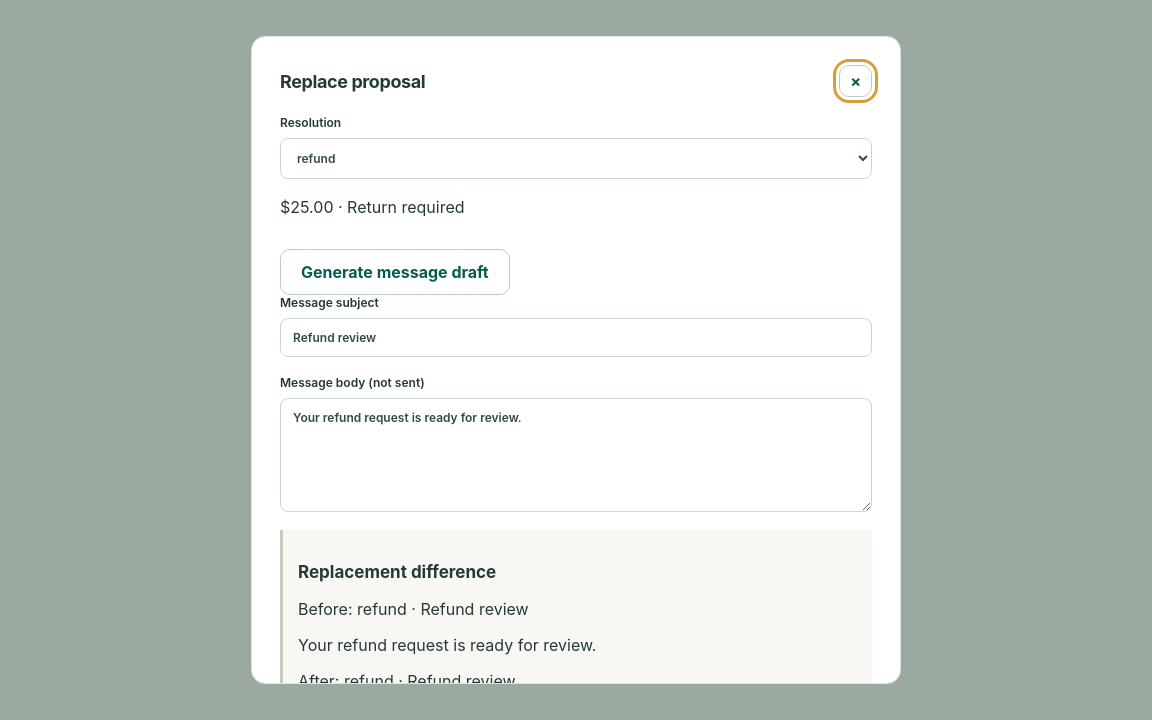
Test: explicit human commands › retains the replacement diff after conflict and disables unsafe resubmission
Replace the text in the field labelled "Message subject" with "Corrected subject" at x=576, y=338, box x1=280 y1=318 x2=872 y2=357
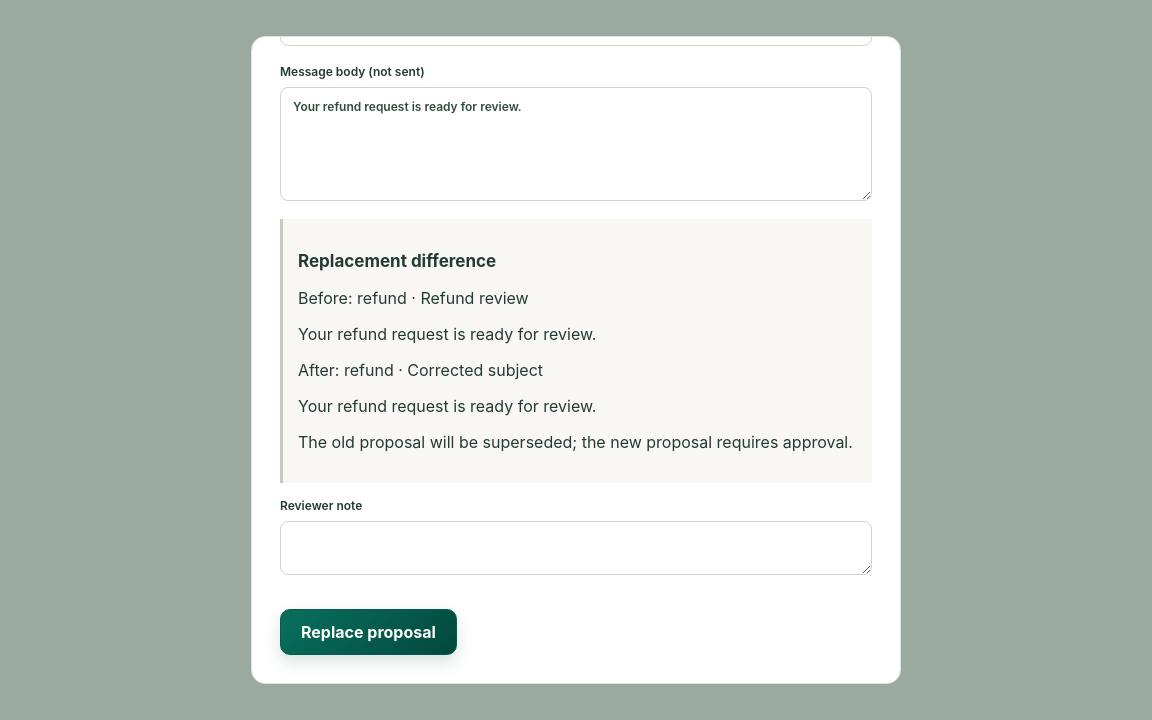
Check: the text "Before: refund · Refund review" is shown, box x1=298 y1=288 x2=529 y2=308
Click the button "Replace proposal" at x=368, y=632, box x1=280 y1=609 x2=457 y2=655
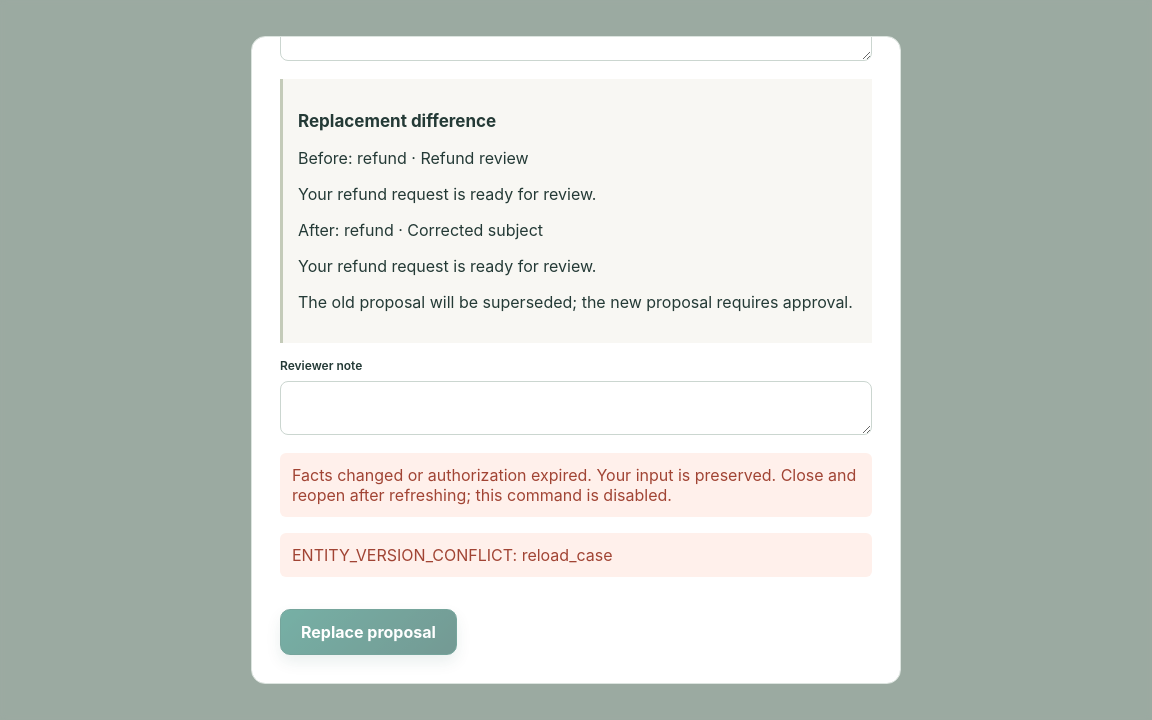
Check: the text "ENTITY_VERSION_CONFLICT: reload_case" is shown, box x1=280 y1=533 x2=872 y2=577
Check: the button "Replace proposal" is disabled, box x1=280 y1=609 x2=457 y2=655
